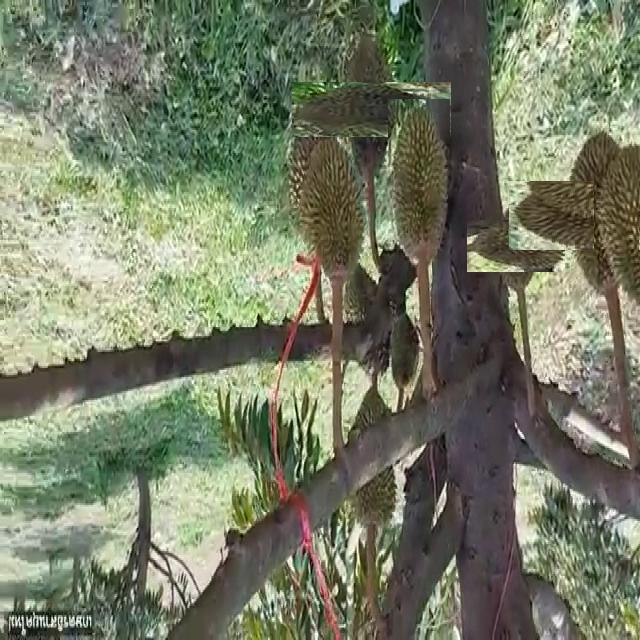durian: (537, 153, 640, 278), (317, 56, 425, 163), (388, 99, 450, 276), (301, 136, 366, 286), (347, 382, 403, 532), (594, 136, 639, 315), (340, 256, 394, 382), (480, 206, 558, 285), (388, 309, 421, 394)
